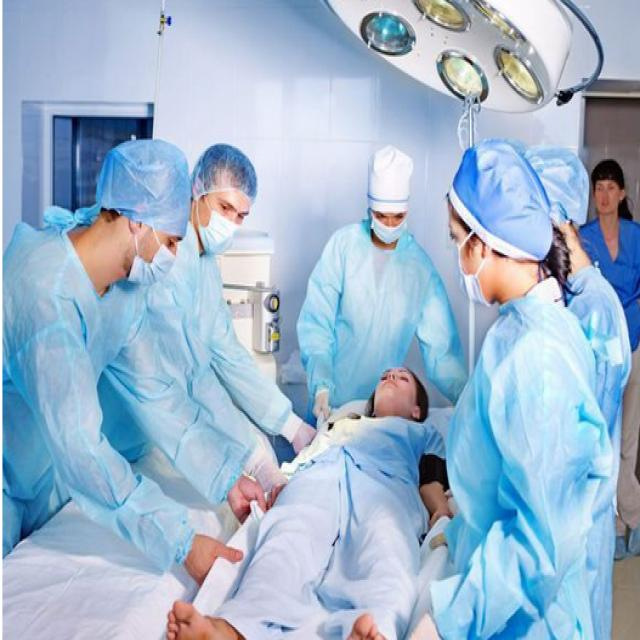mask: (112, 223, 182, 292), (447, 244, 507, 321), (367, 205, 416, 257), (205, 201, 241, 263)
